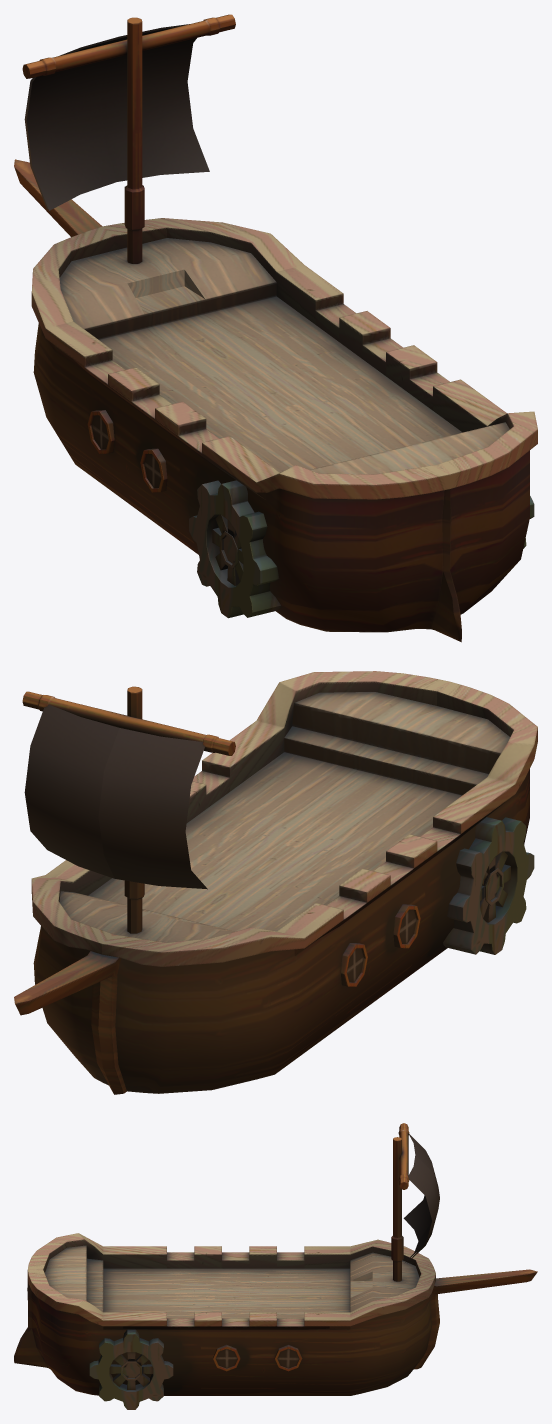
Rendered from Ship.fbx.
3 views of the same model, one above another, from view 1: azimuth 30°, elevation 25°; view 2: azimuth 150°, elevation 25°; view 3: azimuth 270°, elevation 25° (orthographic). The views are drawn at different scales.
Visible parts, largest first — view 1: Ship_demo_01; view 2: Ship_demo_01; view 3: Ship_demo_01.
Part boxes in pixels (box(x1,y1,x2,y2)): Ship_demo_01: box(14, 14, 537, 642); Ship_demo_01: box(14, 671, 537, 1094); Ship_demo_01: box(14, 1123, 537, 1409).
Size of the model in its own units: 20.24 by 27.91 by 57.2.
Materials: 1 (1 with a texture image).
